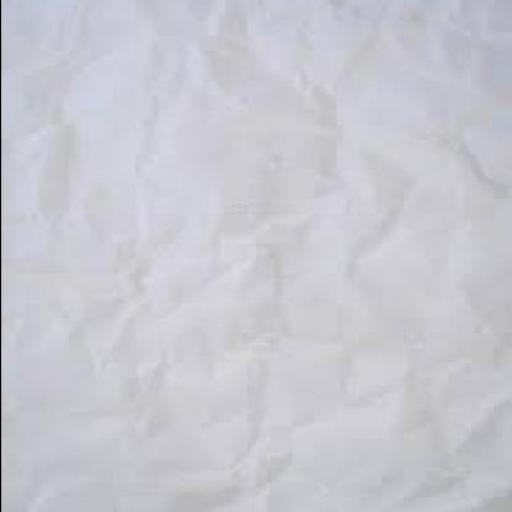paper: (2, 1, 510, 511)
